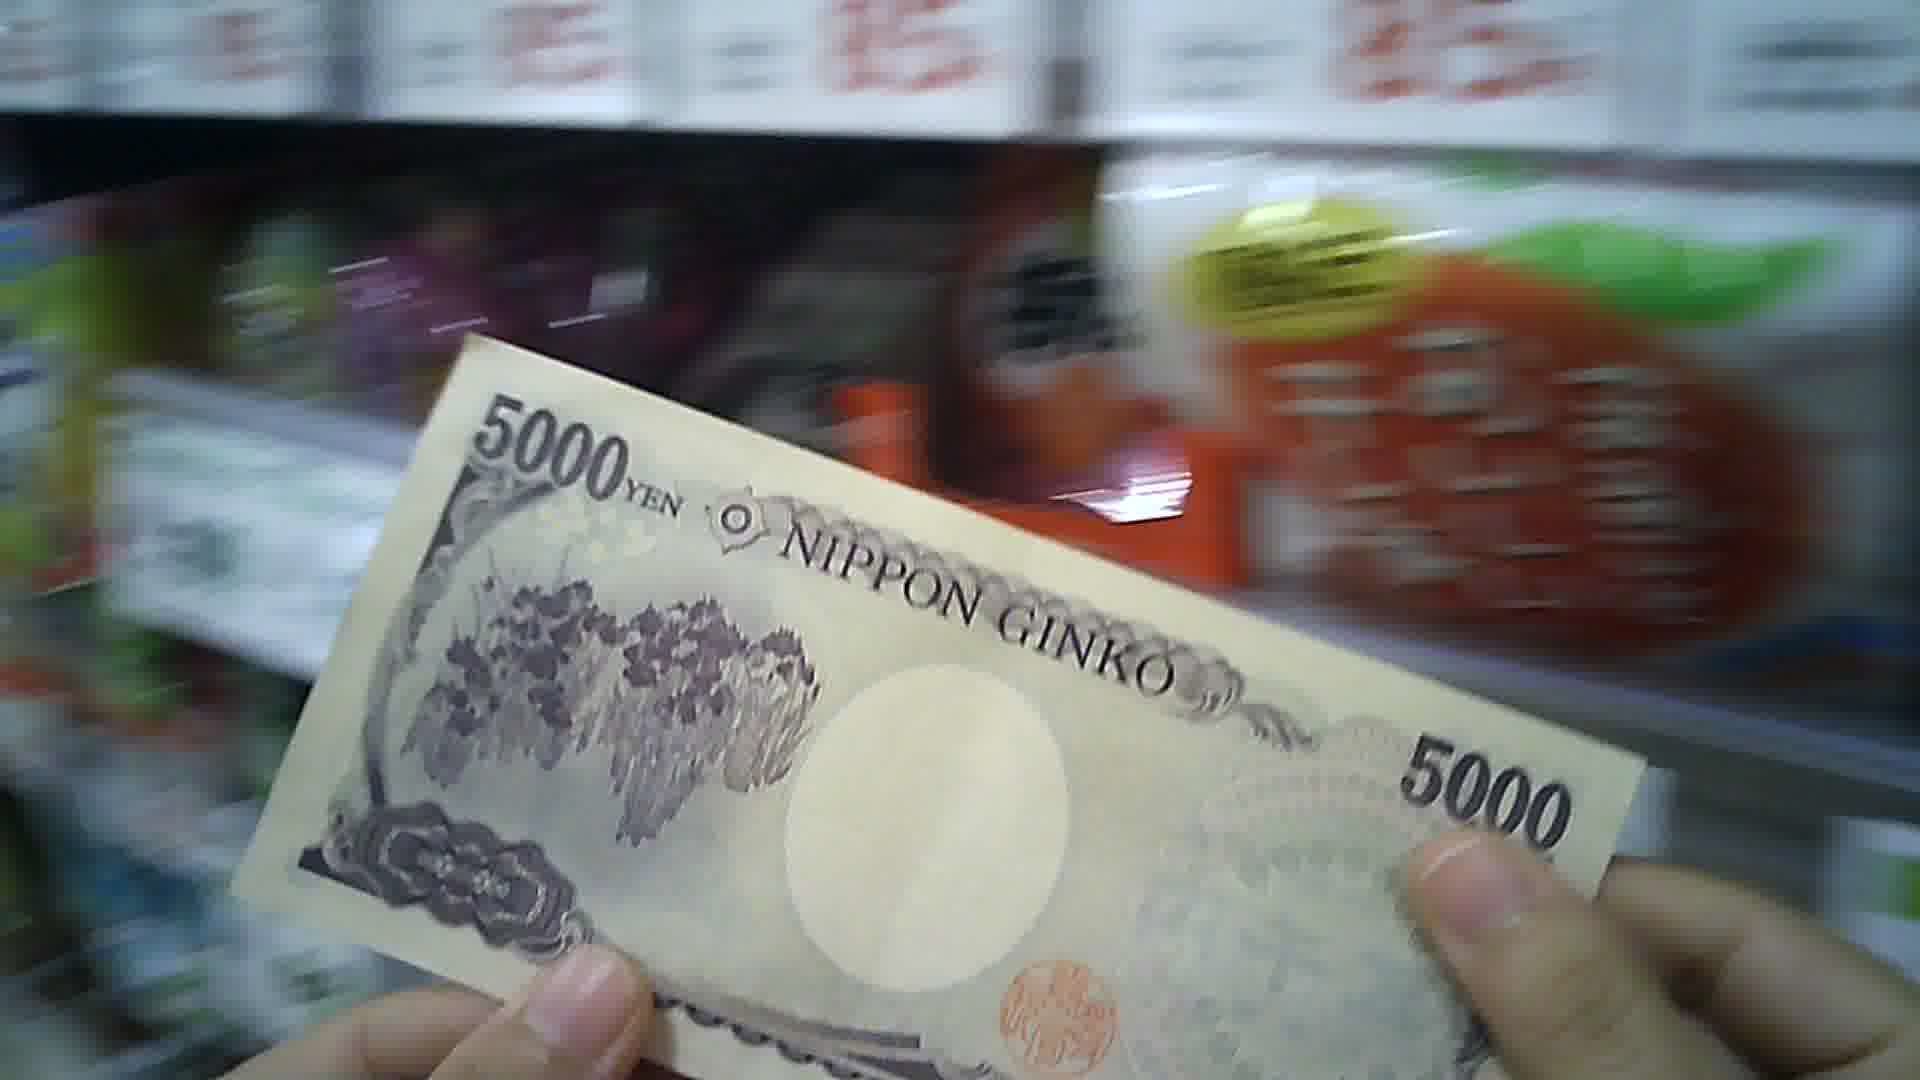5,000 Yen: (229, 327, 1625, 1077)
